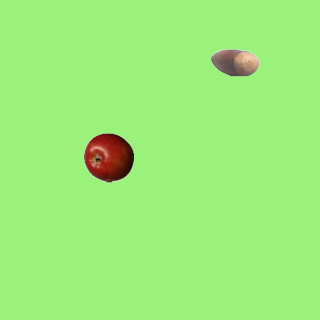Apple Braeburn: (83, 132, 133, 182)
Hazelnut: (209, 37, 259, 87)
